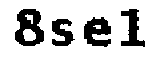1: (118, 7, 151, 52)
8: (14, 4, 45, 53)
e: (82, 16, 114, 48)
s: (48, 17, 75, 49)
